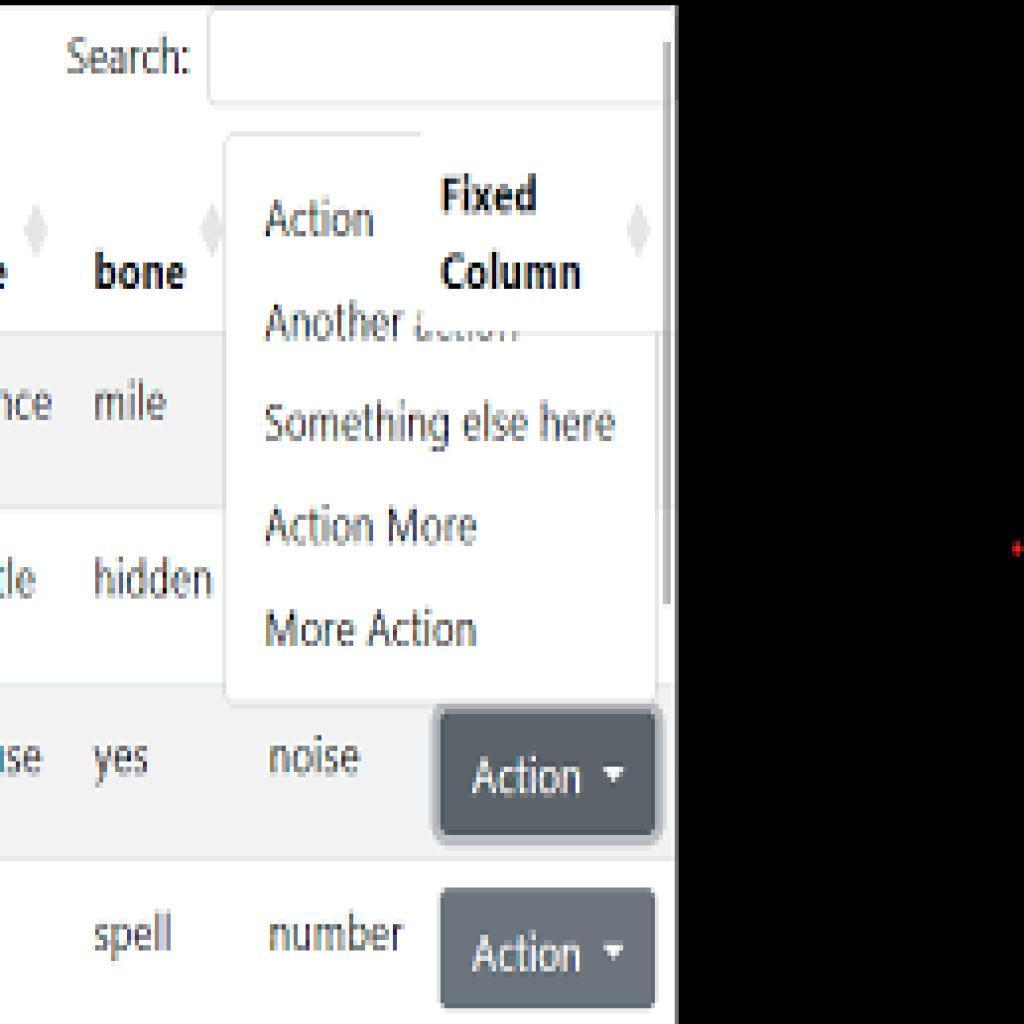dropdown: (443, 715, 656, 837), (441, 888, 655, 1009)
icon: (61, 28, 192, 81)
input: (210, 7, 678, 102)
